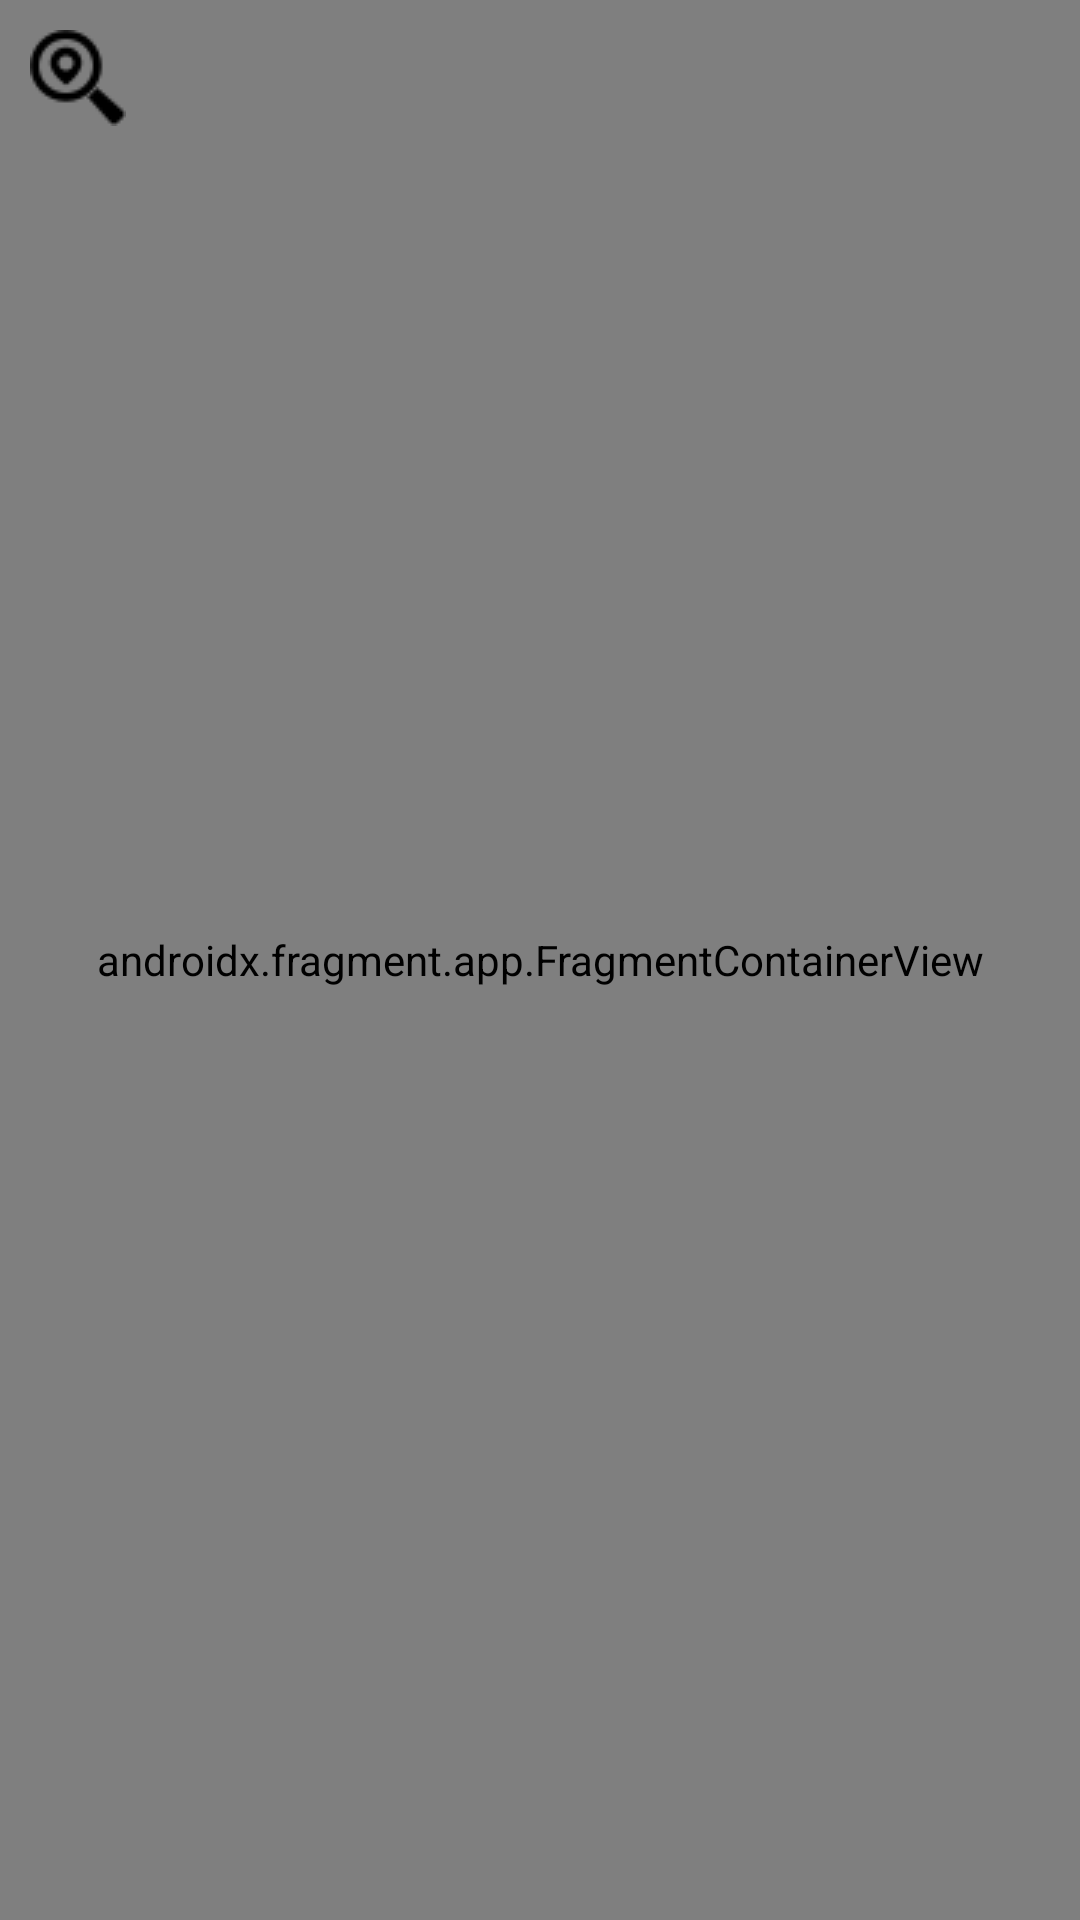

Where icons sit on this 1080×1920 app screen, as (x1, y1, x2, y2):
search: (30, 30, 126, 126)
